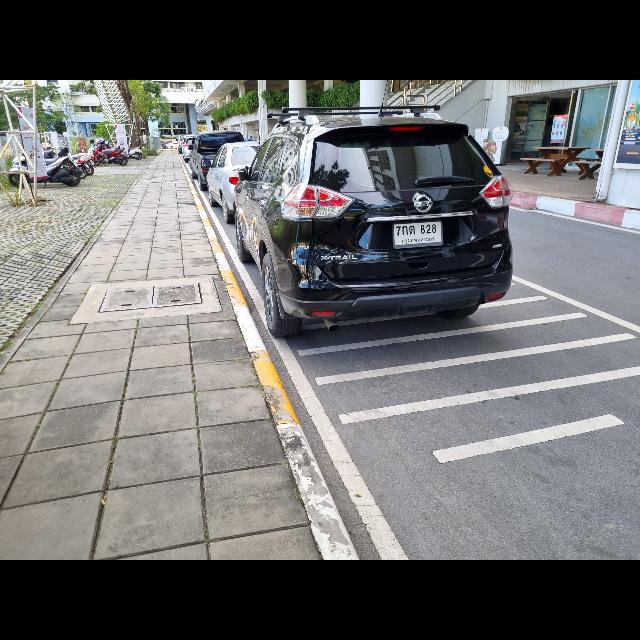licenseplate: (392, 219, 442, 249)
